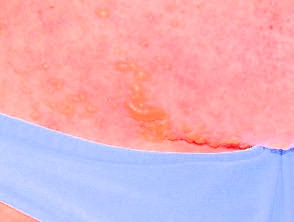SJS-TEN: (0, 0, 293, 160)
